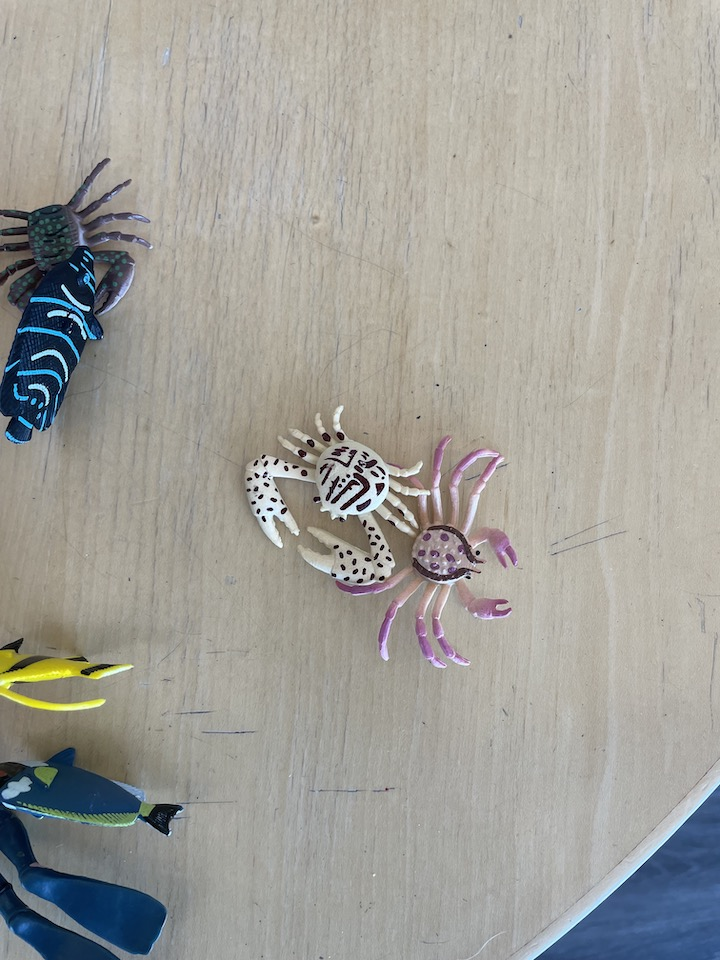crab: (336, 432, 522, 675), (240, 402, 433, 592), (1, 150, 153, 311)
danger: (1, 792, 172, 960), (1, 632, 137, 718)
fish: (1, 244, 106, 448), (1, 742, 186, 845)
